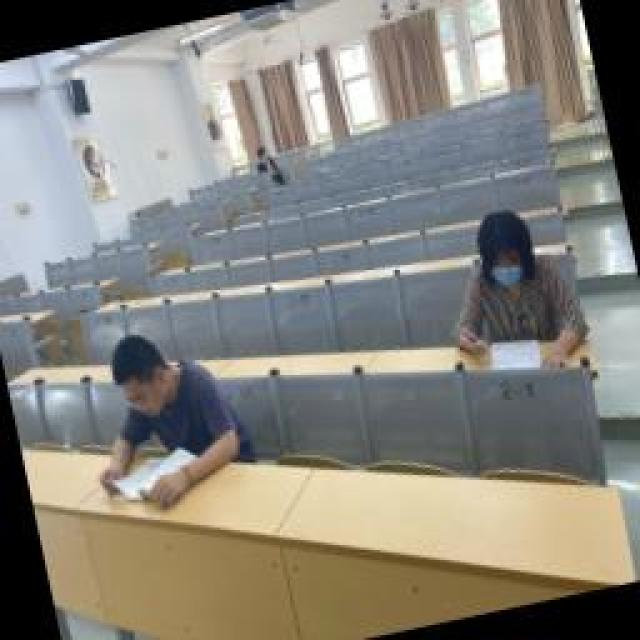study: (70, 315, 260, 520), (430, 195, 595, 387), (248, 143, 282, 175)
